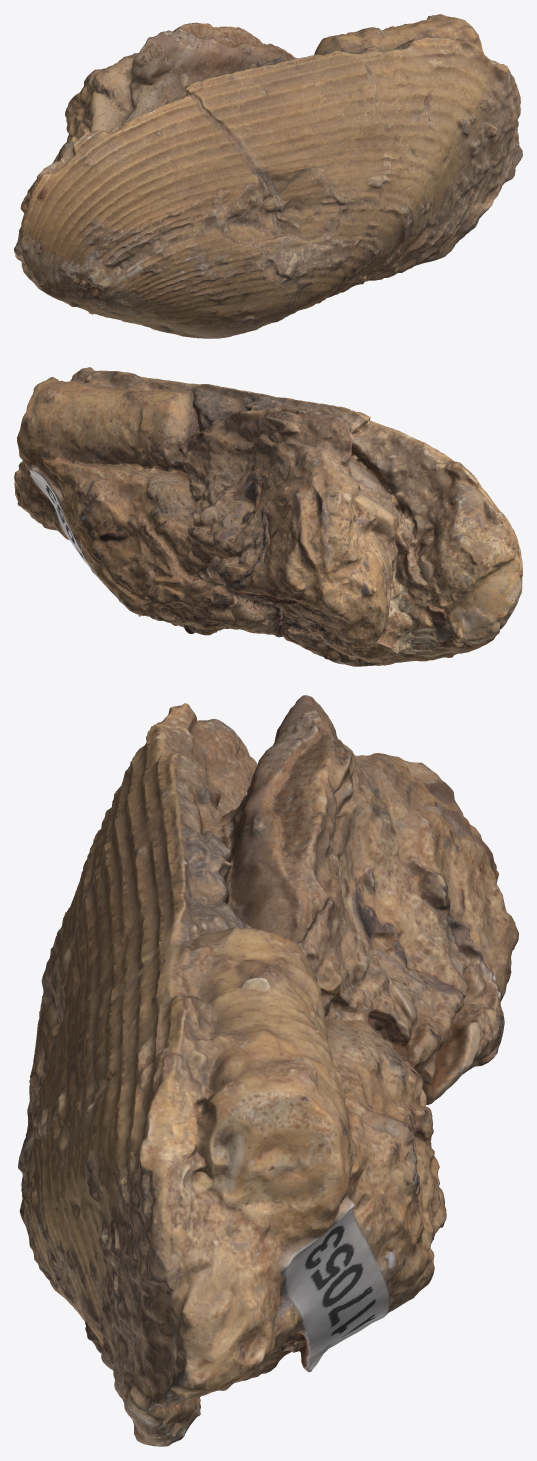
Rendered from EWS0012654.glb.
The picture shows the model from 3 angles, top to bottom: view 1: azimuth 30°, elevation 25°; view 2: azimuth 150°, elevation 25°; view 3: azimuth 270°, elevation 25°; orthographic projection. The views are drawn at different scales.
Visible parts, largest first — view 1: input; view 2: input; view 3: input.
Boxes of the visible parts, x1,y1,x2,y2 form: input: (14, 14, 522, 338); input: (14, 367, 522, 666); input: (18, 695, 518, 1446).
Bounding box in the file's own units: 0.0513 × 0.0274 × 0.0223.
1 material, 1 textured.
